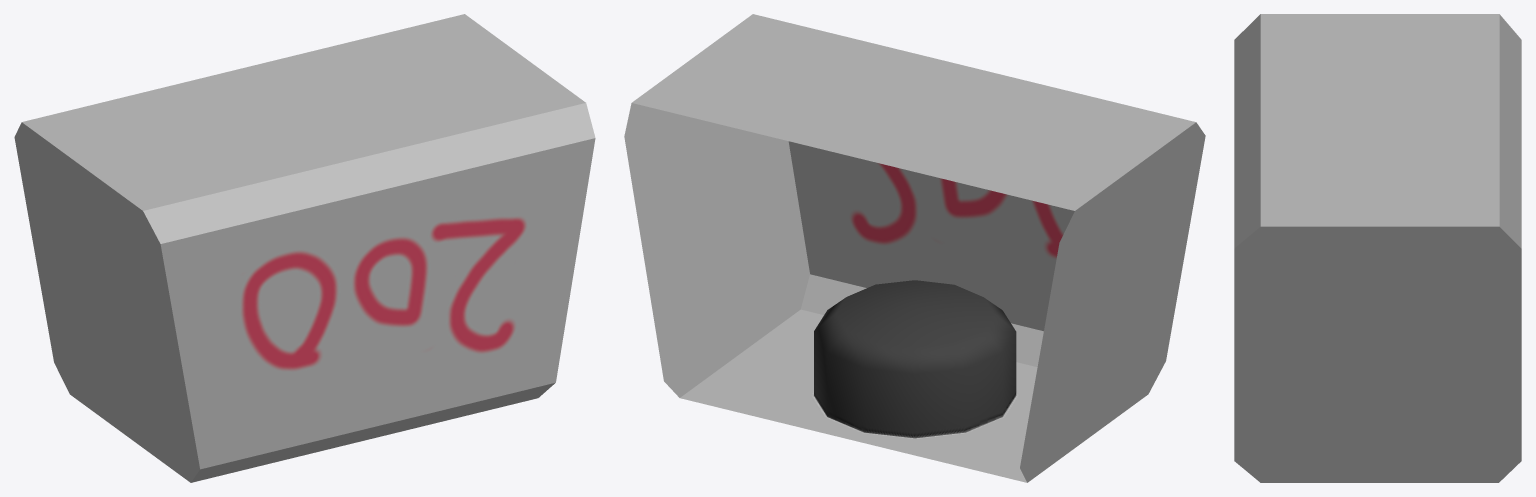
File: donuts02.fbx
The picture shows the model from 3 angles, left to right: view 1: azimuth 30°, elevation 25°; view 2: azimuth 150°, elevation 25°; view 3: azimuth 270°, elevation 25°; orthographic projection.
Parts seen in each view (by area): view 1: donuts02; view 2: donuts02; view 3: donuts02.
Part boxes in pixels (x1,y1,x2,y2): donuts02: (14, 14, 595, 482); donuts02: (624, 14, 1205, 482); donuts02: (1234, 14, 1521, 482).
Size of the model in its own units: 3.19 by 1.95 by 1.82.
